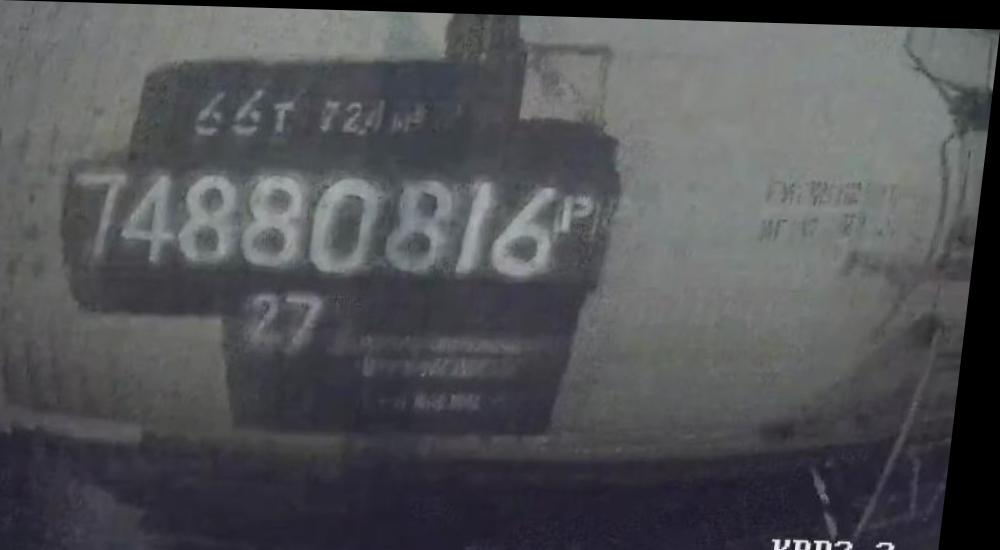Wagon-number: (71, 165, 572, 283)
